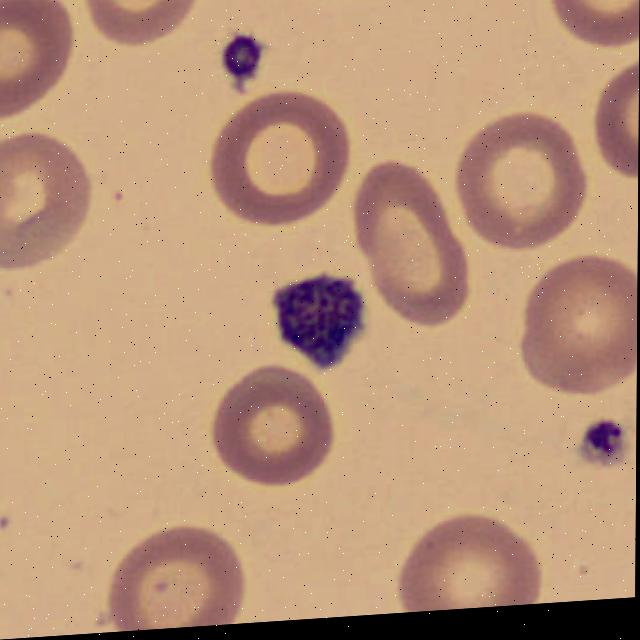platelets: (267, 261, 373, 371), (581, 411, 633, 476), (222, 28, 263, 83)
rbc: (193, 350, 357, 509), (349, 149, 488, 336), (199, 79, 358, 230), (94, 514, 282, 633), (450, 104, 591, 254), (388, 501, 548, 614), (519, 247, 638, 395), (0, 128, 108, 267), (0, 0, 75, 123), (515, 0, 640, 62), (579, 55, 639, 182), (84, 0, 212, 54), (307, 0, 422, 6)
